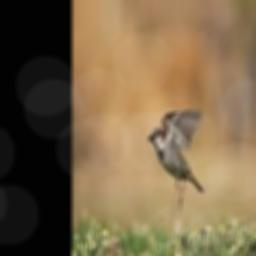Sparrow: (148, 109, 204, 216)
